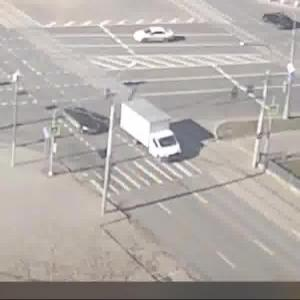car: (121, 99, 183, 166), (61, 105, 105, 140), (265, 6, 298, 31), (132, 28, 175, 45)
